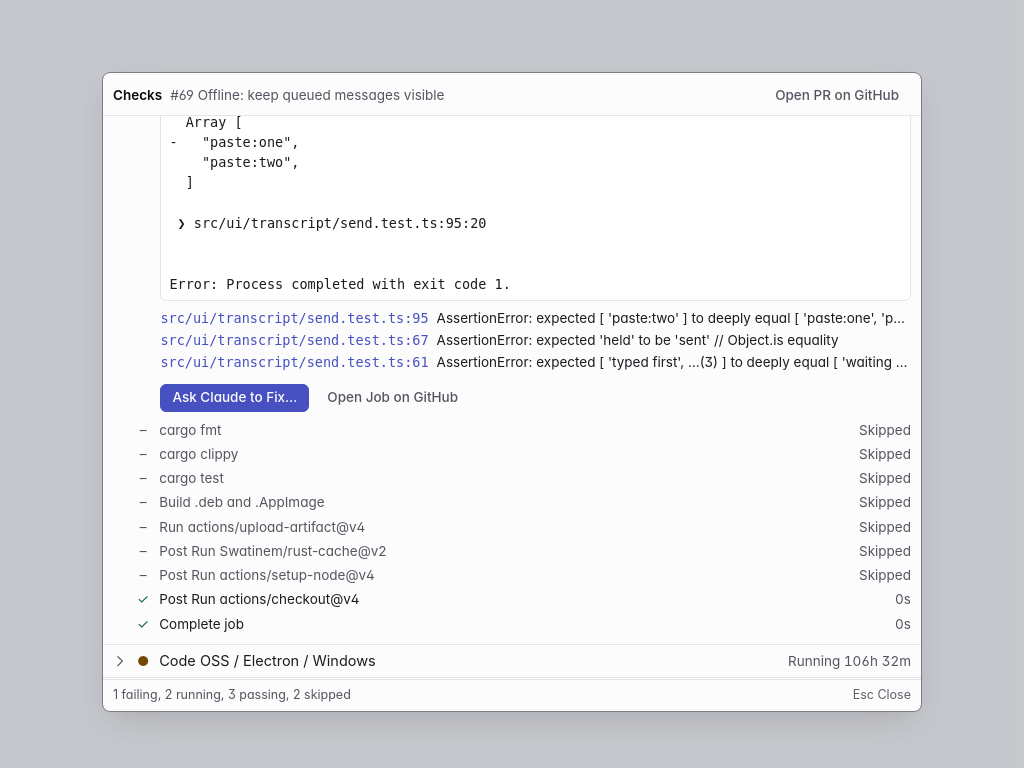
Scenario: ChecksDialog › says where the message box is when no composer took the text, and stays open
(page scrolled)
Click the button "Ask Claude to Fix…".
click(235, 398)  # box [160,384,309,412]
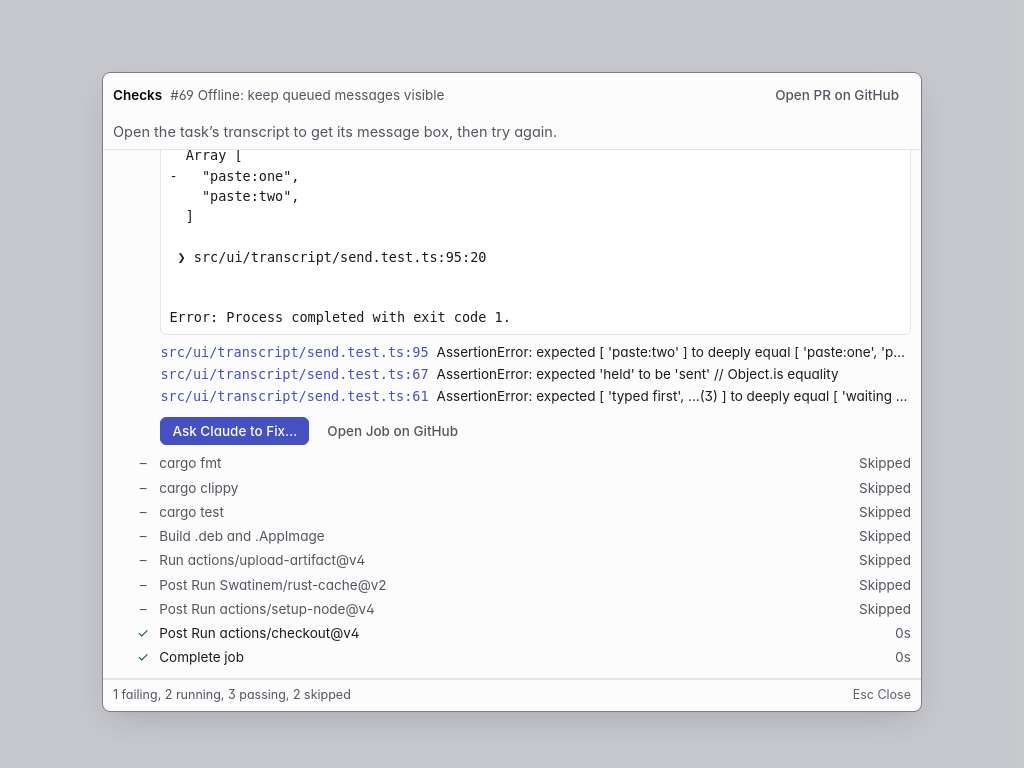
Expected: the message "Open the task’s transcript to get its message box, then try again." is shown, [113,123,557,140]
